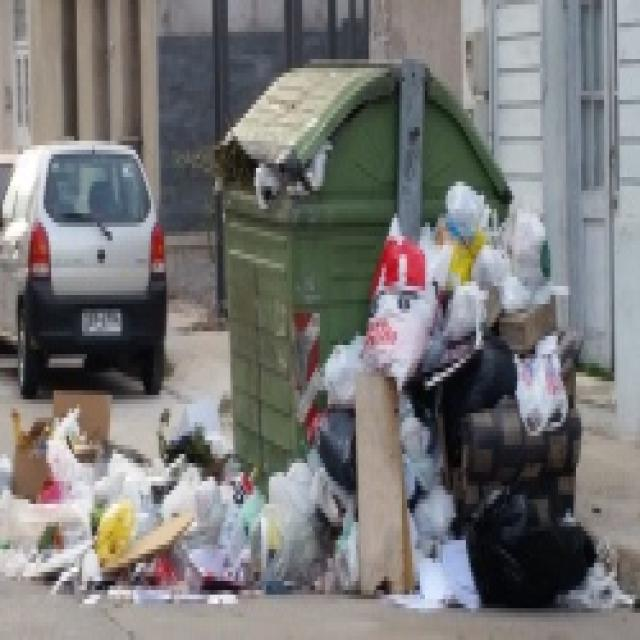garbage: (356, 180, 585, 605), (0, 388, 360, 606)
